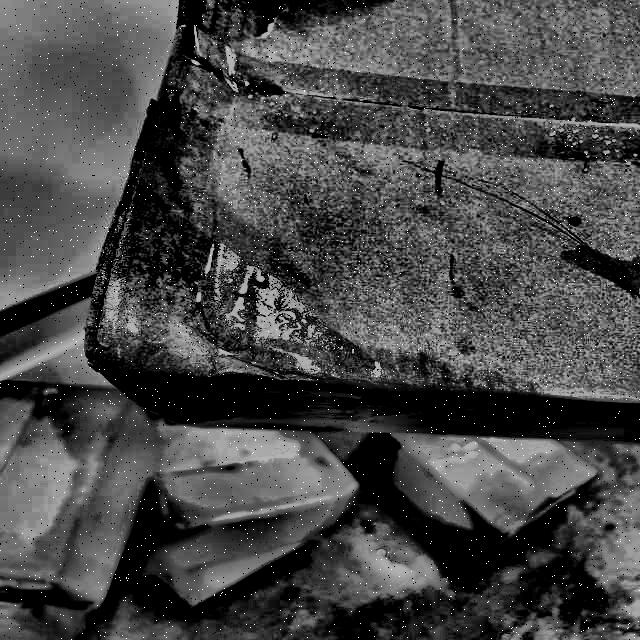box: (73, 0, 640, 444)
wet: (95, 141, 372, 429)
